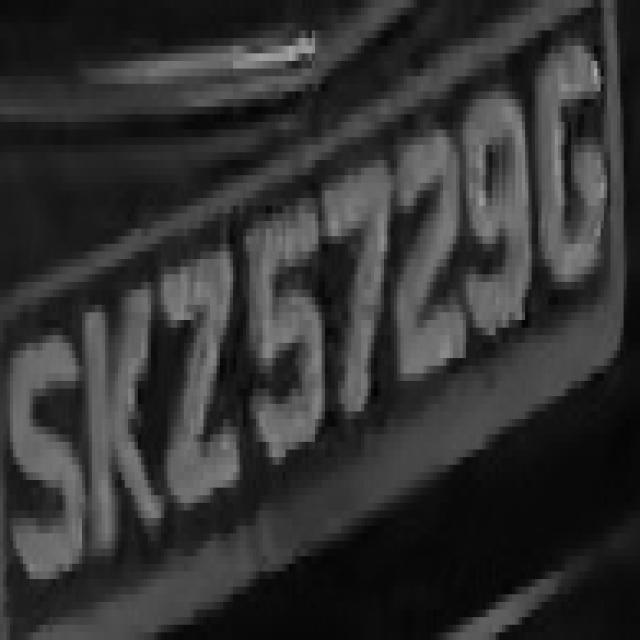2: (381, 137, 469, 396)
5: (240, 198, 334, 480)
7: (308, 153, 404, 434)
9: (459, 61, 535, 366)
G: (532, 15, 614, 312)
K: (75, 251, 161, 564)
S: (10, 312, 85, 618)
Z: (154, 229, 246, 541)
